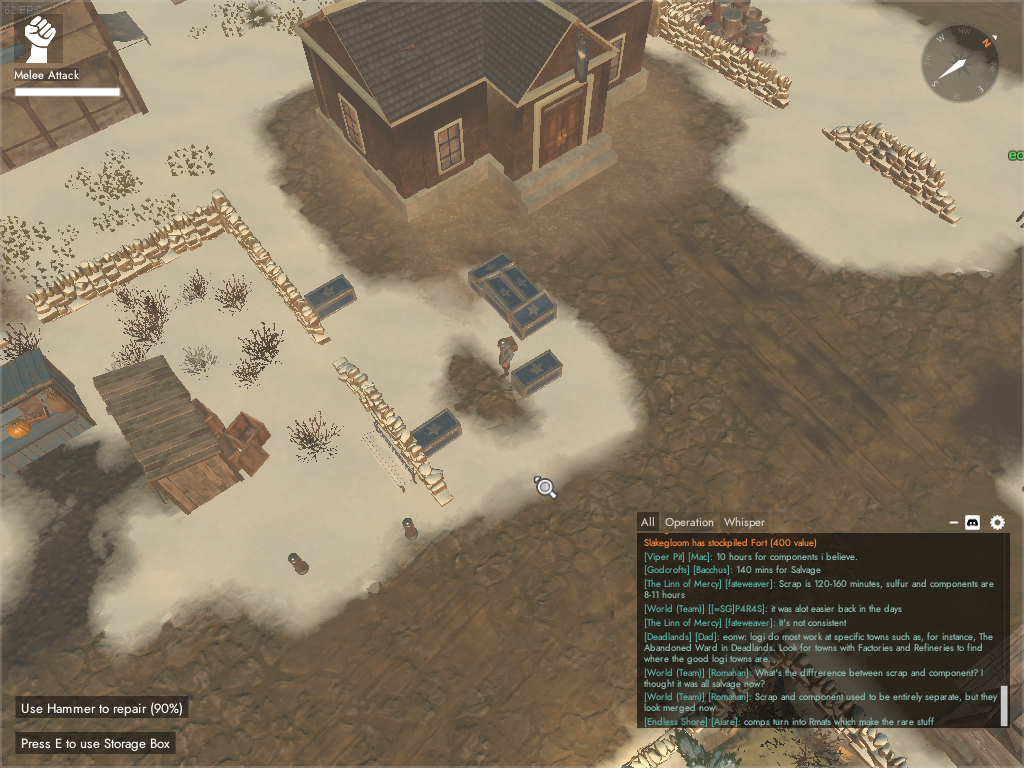player: (495, 336, 518, 379)
storage_box: (409, 408, 466, 462), (507, 289, 559, 341), (510, 348, 563, 399), (476, 273, 527, 323), (304, 273, 357, 321), (467, 252, 517, 299), (498, 263, 543, 306)
toggle_storage_box: (15, 732, 174, 754)
